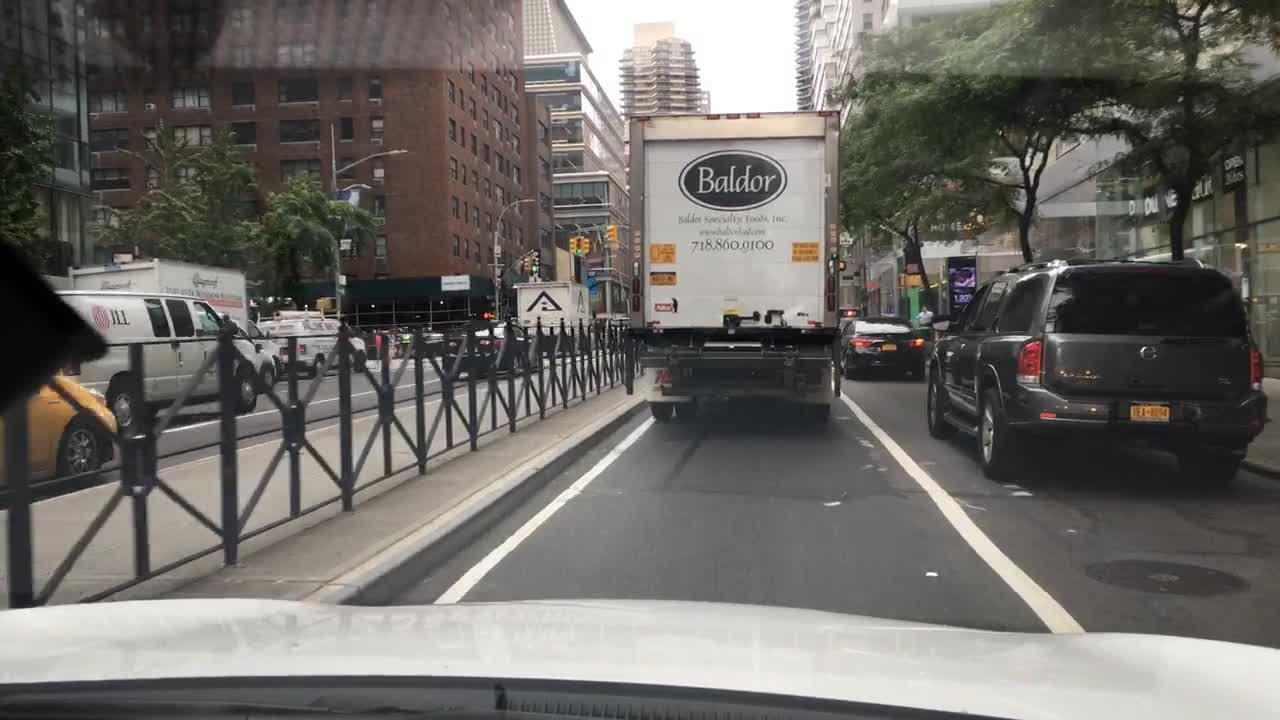Nissan: (1133, 340, 1162, 366)
